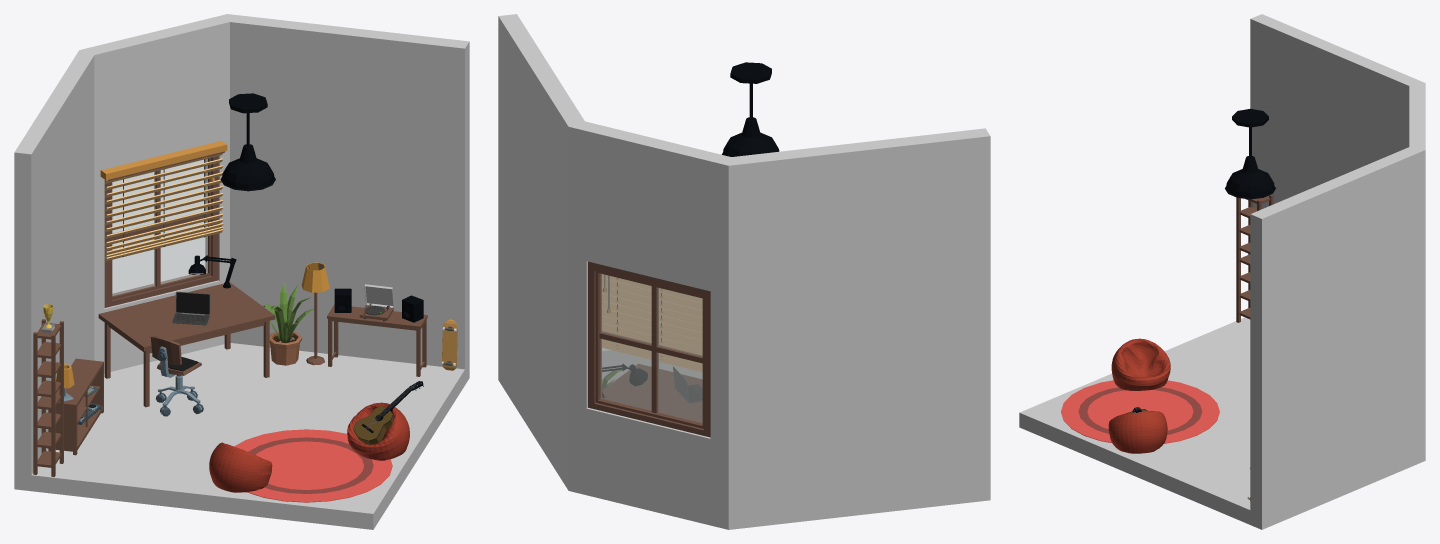
File: homeoffice.glb
The picture shows the model from 3 angles, left to right: view 1: azimuth 30°, elevation 25°; view 2: azimuth 150°, elevation 25°; view 3: azimuth 270°, elevation 25°; orthographic projection. The views are drawn at different scales.
Visible parts, largest first — view 1: Walls, Window, Blinds, Rug, Table, BookCase, Cabinet, CeilingLampBottom, Binbag2, SideTable, Plant, Binbag1 (+9 smaller); view 2: Walls, Window, Blinds, Table, CeilingLampBottom; view 3: Walls, Rug, Binbag2, Binbag1, CeilingLampBottom, BookCase.
Boxes of the visible parts, bbox=[...] form: Walls: bbox=[14, 14, 469, 529]; Window: bbox=[104, 156, 218, 307]; Blinds: bbox=[100, 140, 227, 261]; Rug: bbox=[234, 429, 392, 502]; Table: bbox=[98, 282, 275, 407]; BookCase: bbox=[33, 319, 63, 476]; Cabinet: bbox=[48, 358, 103, 455]; CeilingLampBottom: bbox=[220, 93, 275, 191]; Binbag2: bbox=[209, 442, 272, 492]; SideTable: bbox=[327, 304, 427, 376]; Plant: bbox=[263, 283, 317, 365]; Binbag1: bbox=[347, 402, 409, 460]; Walls: bbox=[498, 14, 990, 529]; Window: bbox=[588, 261, 710, 437]; Blinds: bbox=[602, 274, 702, 371]; Table: bbox=[602, 364, 702, 421]; CeilingLampBottom: bbox=[722, 62, 779, 156]; Walls: bbox=[1019, 14, 1425, 529]; Rug: bbox=[1061, 380, 1219, 443]; Binbag2: bbox=[1111, 338, 1170, 390]; Binbag1: bbox=[1108, 411, 1167, 453]; CeilingLampBottom: bbox=[1225, 108, 1275, 199]; BookCase: bbox=[1236, 194, 1273, 322].
Size of the model in its own units: 5.94 by 4.2 by 4.97.
66 materials, 3 textured.
